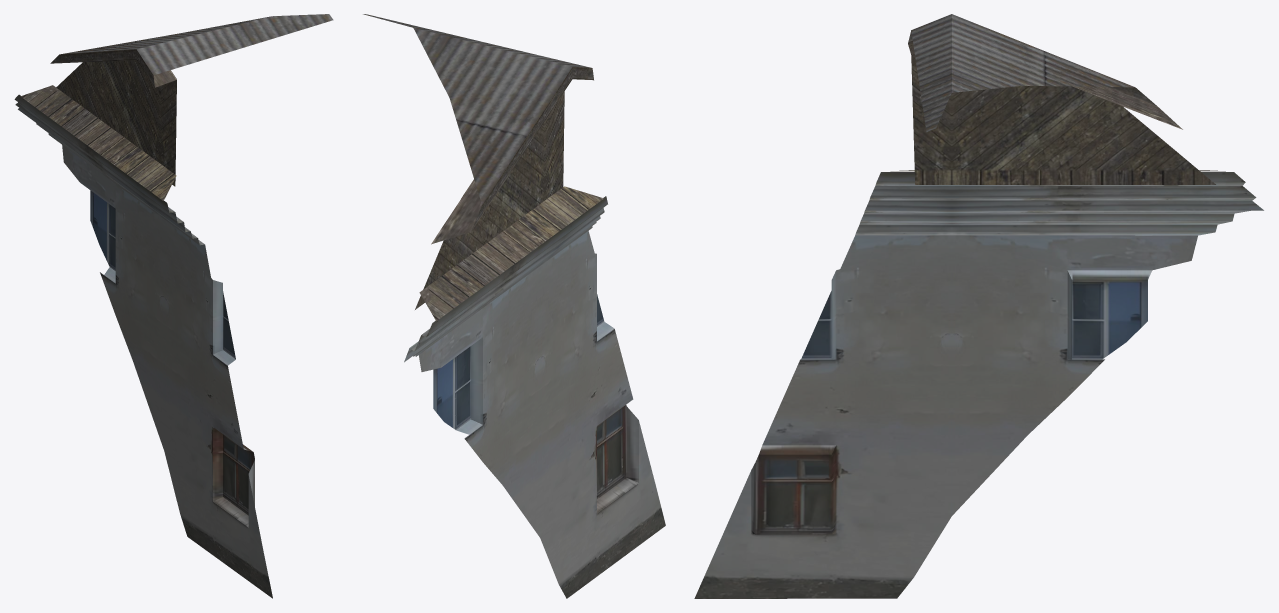
The model's file is House_03_04.fbx.
3 renders of one model, left to right at view 1: azimuth 30°, elevation 25°; view 2: azimuth 150°, elevation 25°; view 3: azimuth 270°, elevation 25°, orthographic. The views are drawn at different scales.
Parts seen in each view (by area): view 1: Дом2.004; view 2: Дом2.004; view 3: Дом2.004.
Boxes of the visible parts, left/top/right/bottom form: Дом2.004: left=14, top=14, right=333, bottom=598; Дом2.004: left=363, top=14, right=665, bottom=598; Дом2.004: left=694, top=14, right=1263, bottom=598.
Bounding box in the file's own units: 7.56 × 18.49 × 16.81.
1 material, 1 textured.
